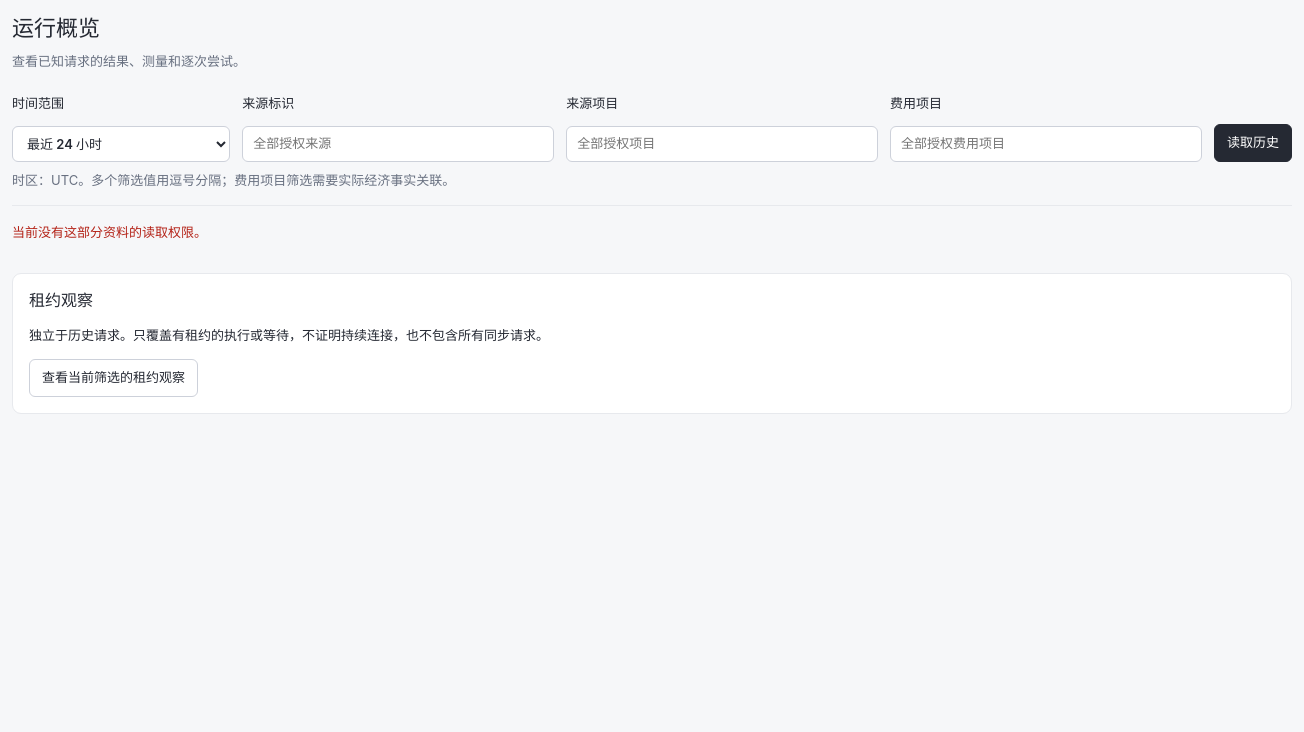
Scenario: keeps current inventory independent of denied historical reads and never interprets empty inventory as zero activity
Expected: the text "当前没有这部分资料的读取权限。" is shown, [12,224,207,240]
Click the button "查看当前筛选的租约观察".
click(114, 378)  # box [29,359,198,396]
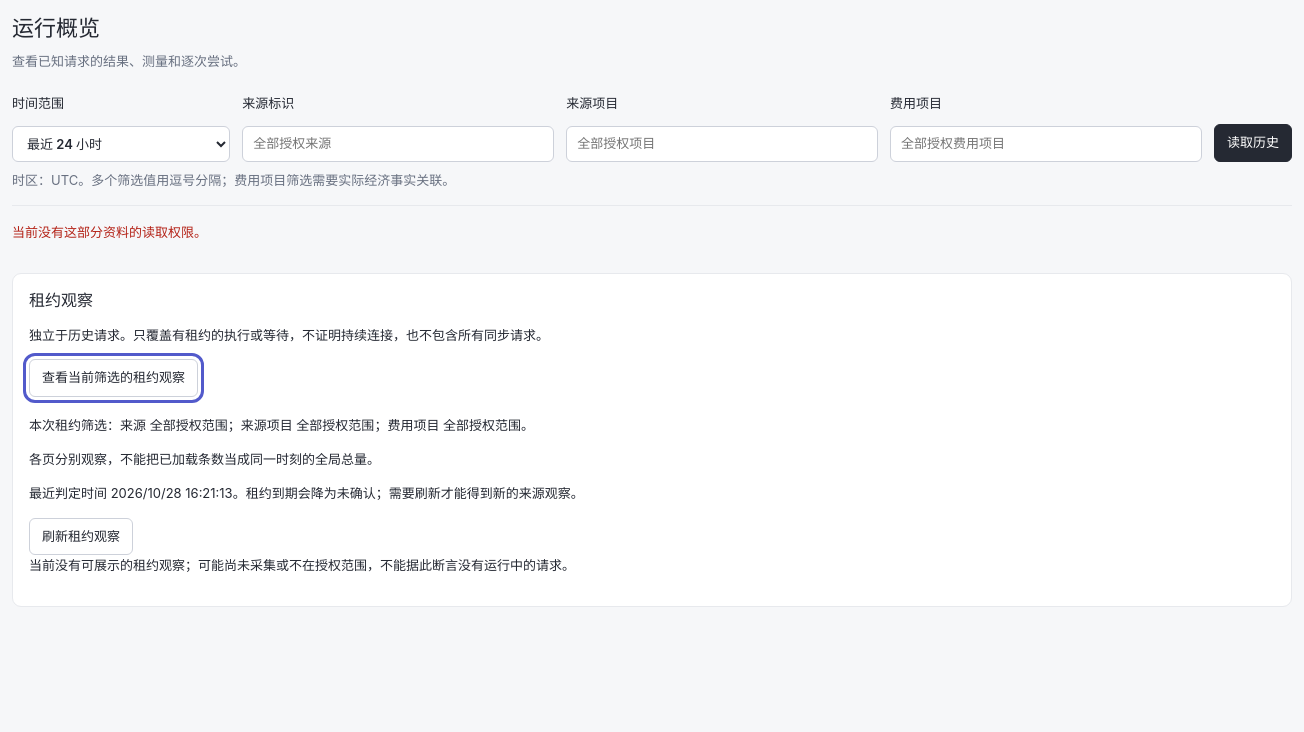
Expected: the text "当前没有可展示的租约观察；可能尚未采集或不在授权范围，不能据此断言没有运行中的请求。" is shown, [29,557,575,573]
